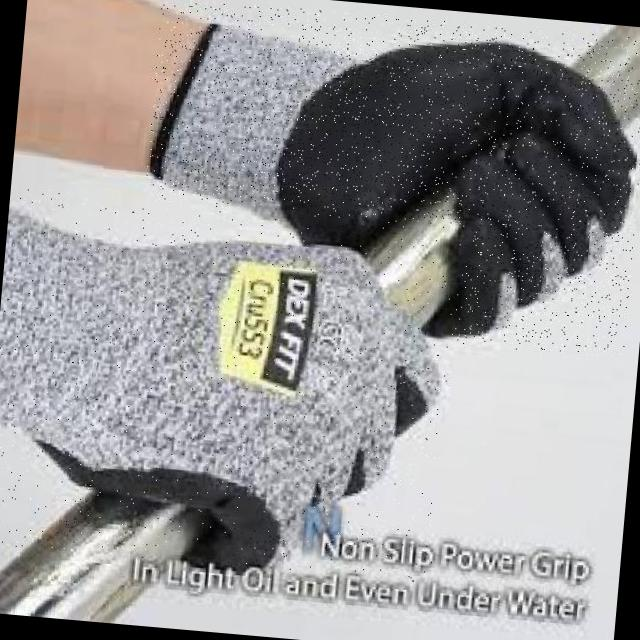forklift: (135, 6, 640, 349), (0, 206, 455, 578)
